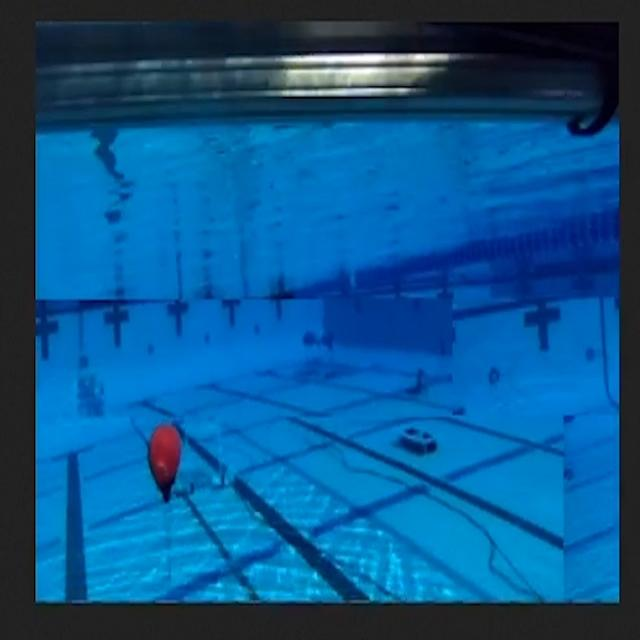Buoy: (146, 423, 182, 499)
